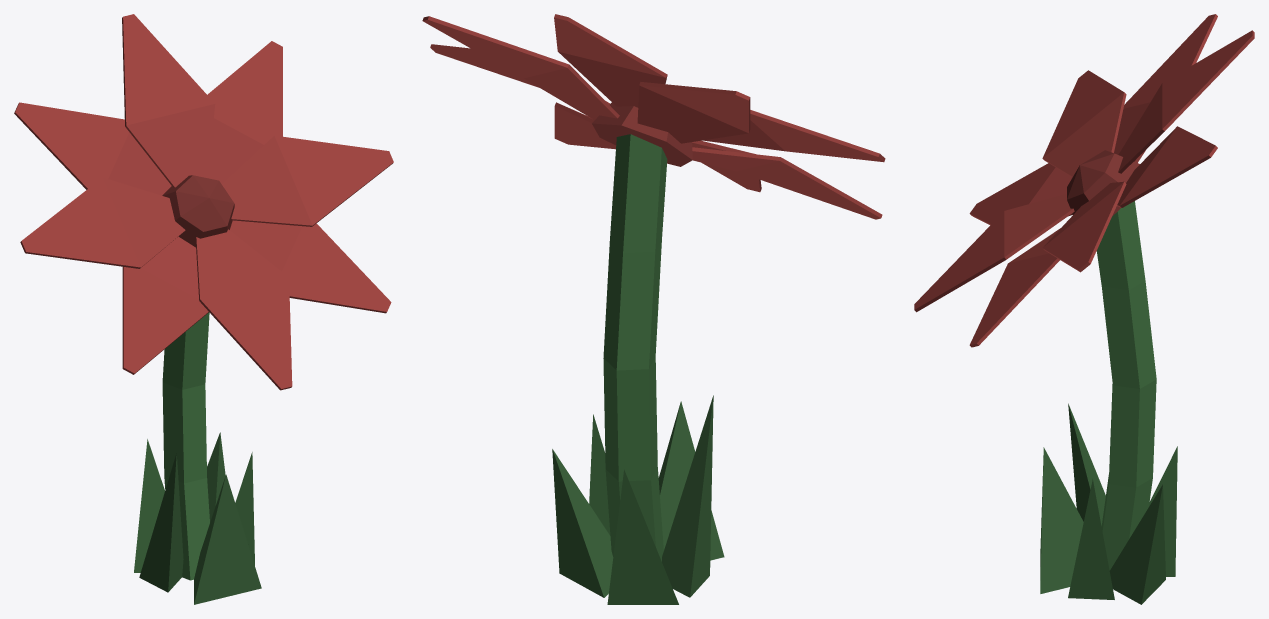
File: Flower_1_Red.fbx
3 renders of one model, left to right at view 1: azimuth 30°, elevation 25°; view 2: azimuth 150°, elevation 25°; view 3: azimuth 270°, elevation 25°, orthographic. The views are drawn at different scales.
Parts seen in each view (by area): view 1: Flower_1_Red; view 2: Flower_1_Red; view 3: Flower_1_Red.
Part boxes in pixels (left/top/right/bottom): Flower_1_Red: left=14, top=14, right=393, bottom=604; Flower_1_Red: left=422, top=14, right=885, bottom=604; Flower_1_Red: left=914, top=14, right=1254, bottom=604.
Size of the model in its own units: 18.76 by 24.83 by 14.08.
